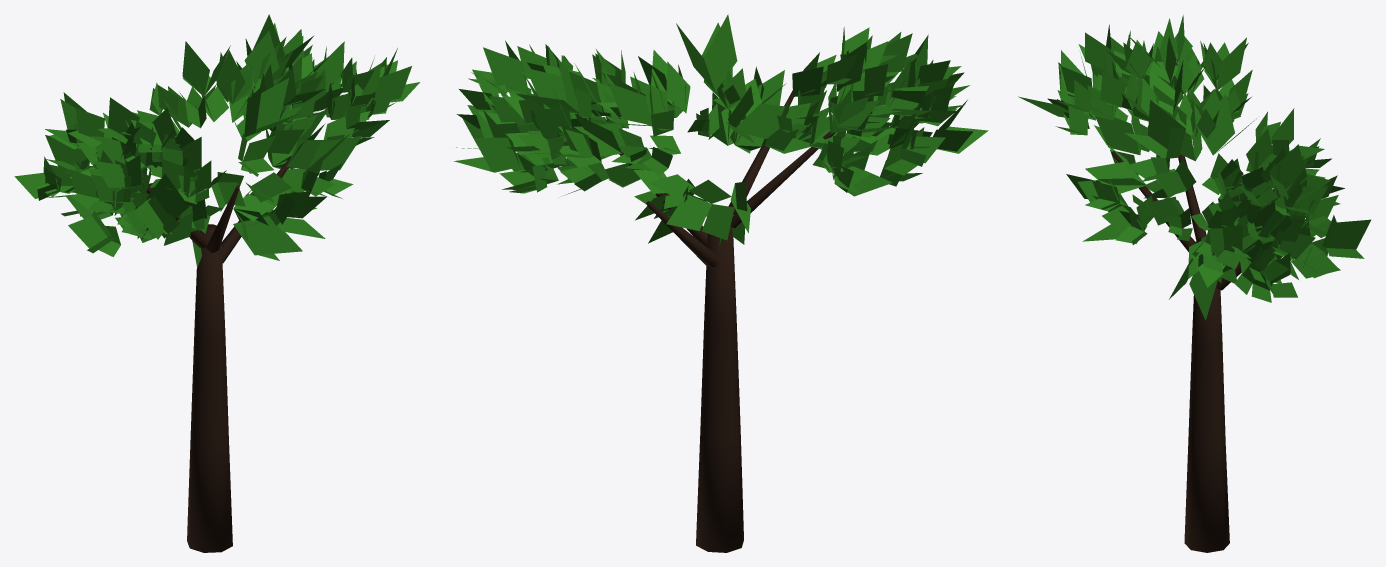
Rendered from Tree_08_C_LOD1.obj.
3 views of the same model, side by side, from view 1: azimuth 30°, elevation 25°; view 2: azimuth 150°, elevation 25°; view 3: azimuth 270°, elevation 25° (orthographic). The views are drawn at different scales.
Parts seen in each view (by area): view 1: Leaves, Trunk; view 2: Leaves, Trunk; view 3: Leaves, Trunk.
Part boxes in pixels (x1=…): Leaves: x1=14, y1=14, x2=419, y2=267; Trunk: x1=143, y1=156, x2=291, y2=552; Leaves: x1=454, y1=14, x2=988, y2=246; Trunk: x1=619, y1=90, x2=835, y2=552; Leaves: x1=1018, y1=15, x2=1370, y2=320; Trunk: x1=1111, y1=151, x2=1249, y2=552.
Size of the model in its own units: 7.4 by 8.22 by 5.62.
